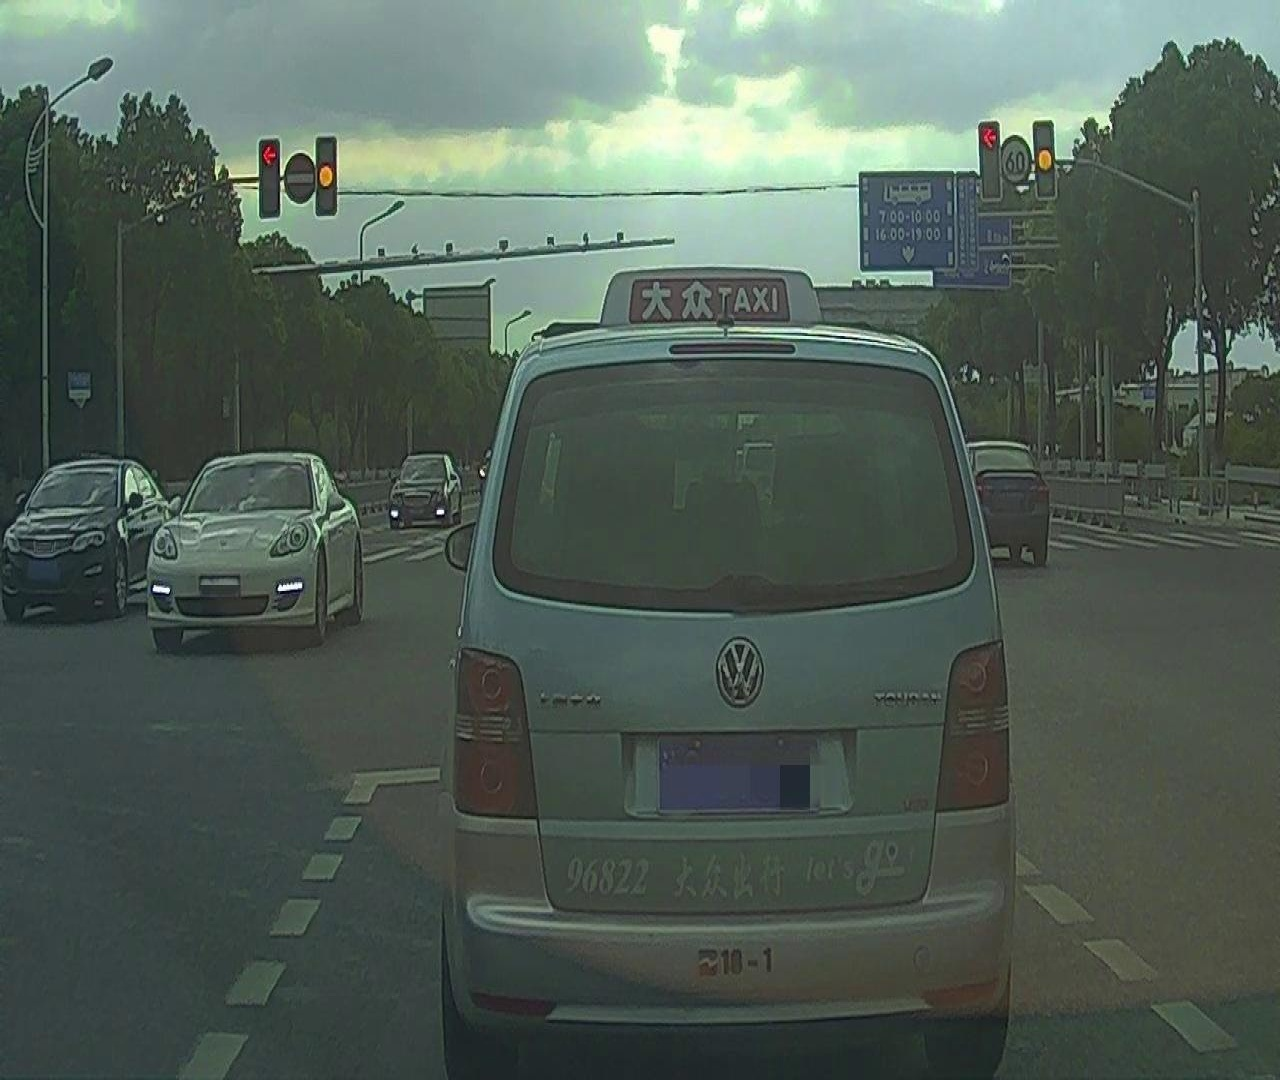red: (257, 136, 281, 220), (980, 120, 1000, 201)
yellow: (316, 132, 338, 216), (1033, 121, 1055, 199)
